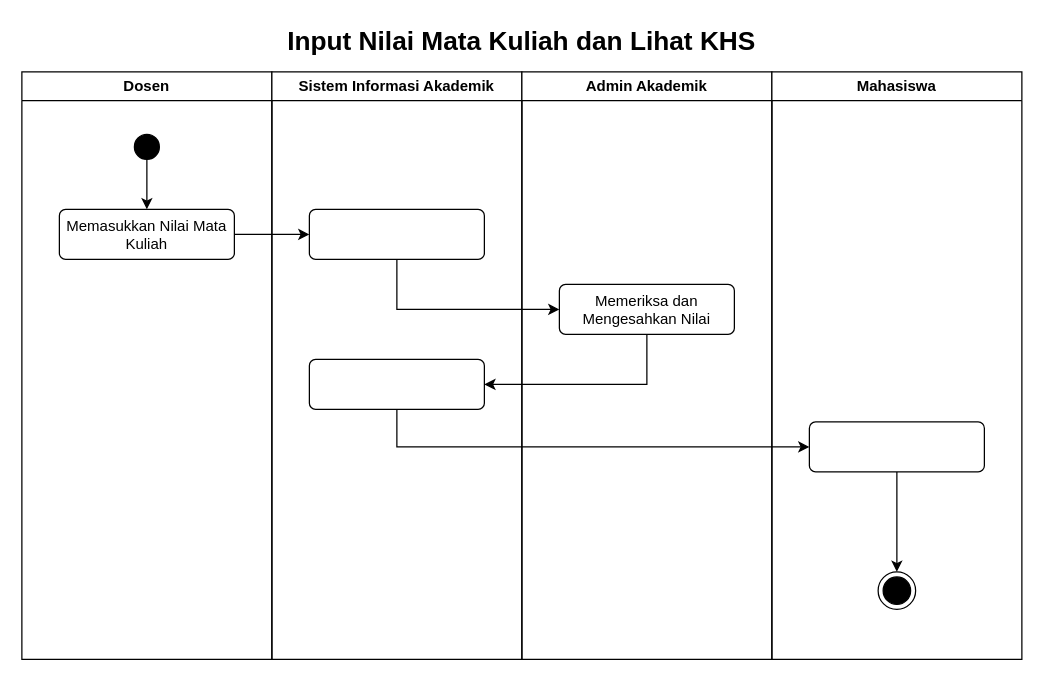
The diagram is 1044 pixels wide and 681 high, and some of its shapes have lost their labels. The shapes that lost their labels are listed below. From the top down, each one's centre as x and y in pixels, then its label:
At (396,233): "Menyimpan Nilai".
At (396,383): "Menerbitkan KHS".
At (896,446): "Melihat KHS".
